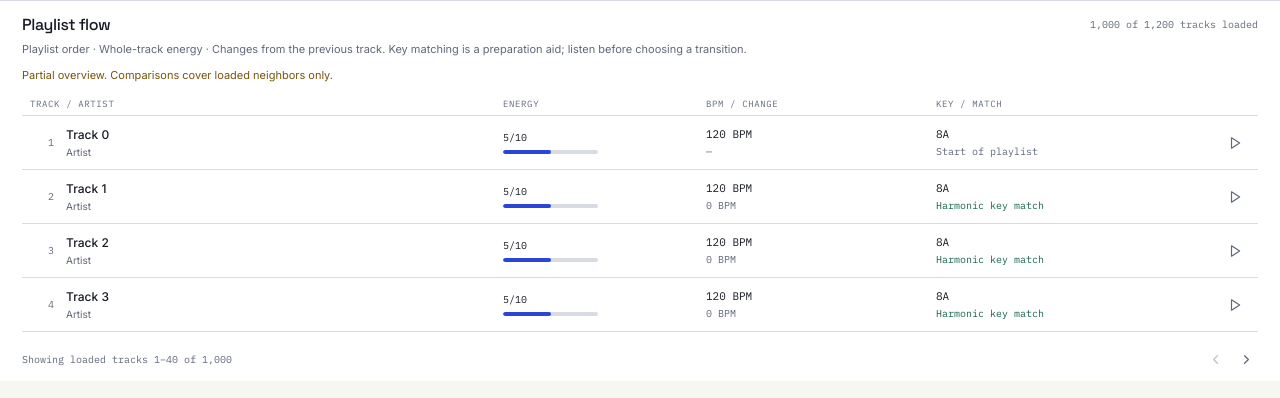
Test case: playlist flow › bounds the DOM for large playlists and labels both loaded scope and displayed range
The width and height of the screenshot is (1280, 398).
expect the text "1,000 of 1,200 tracks loaded" is shown: met, box left=1090, top=18, right=1258, bottom=31
expect the text "Showing loaded tracks 1–40 of 1,000" is shown: met, box left=22, top=353, right=232, bottom=366
Step 1. Click the button named "Next tracks" → click(1246, 360), box left=1235, top=348, right=1258, bottom=371
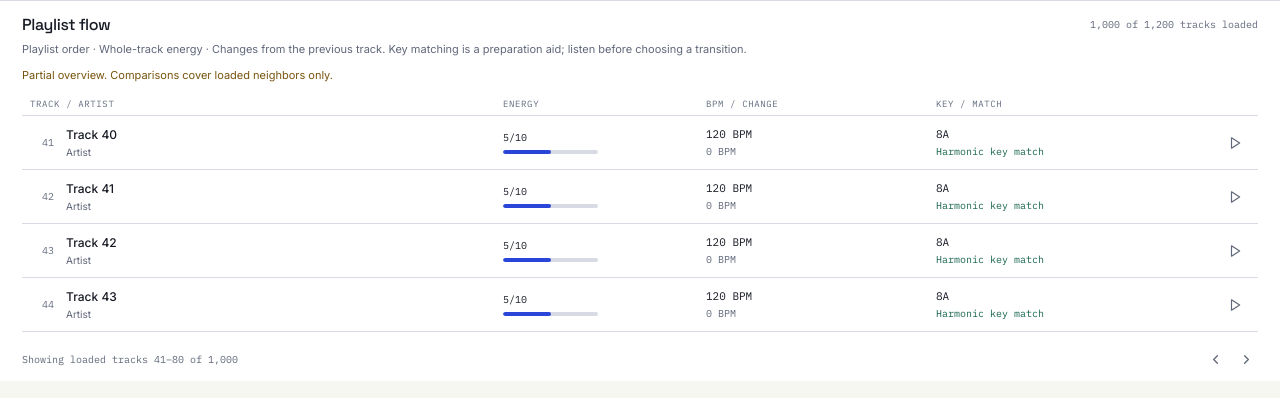
expect the text "Showing loaded tracks 41–80 of 1,000" is shown: met, box left=22, top=353, right=238, bottom=366
expect the button with aria-label "Select Track 40" is shown: met, box left=30, top=125, right=489, bottom=160
